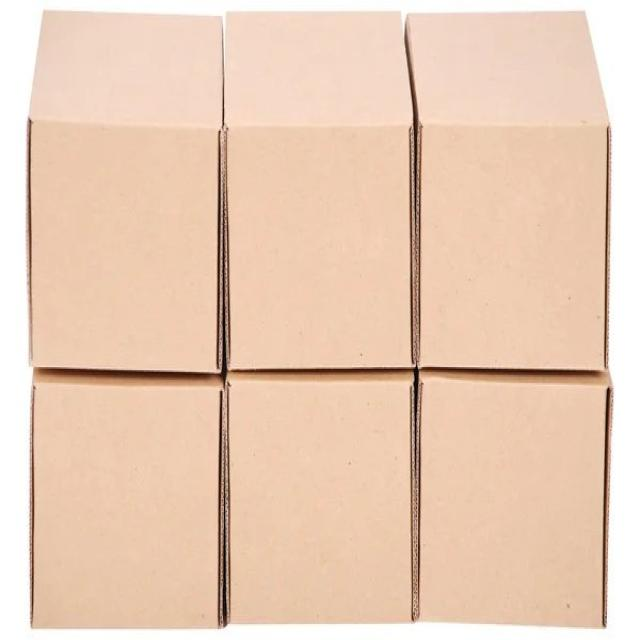Carton: (224, 10, 608, 373), (26, 10, 221, 372), (418, 377, 608, 626), (31, 385, 223, 630), (226, 377, 415, 624)
